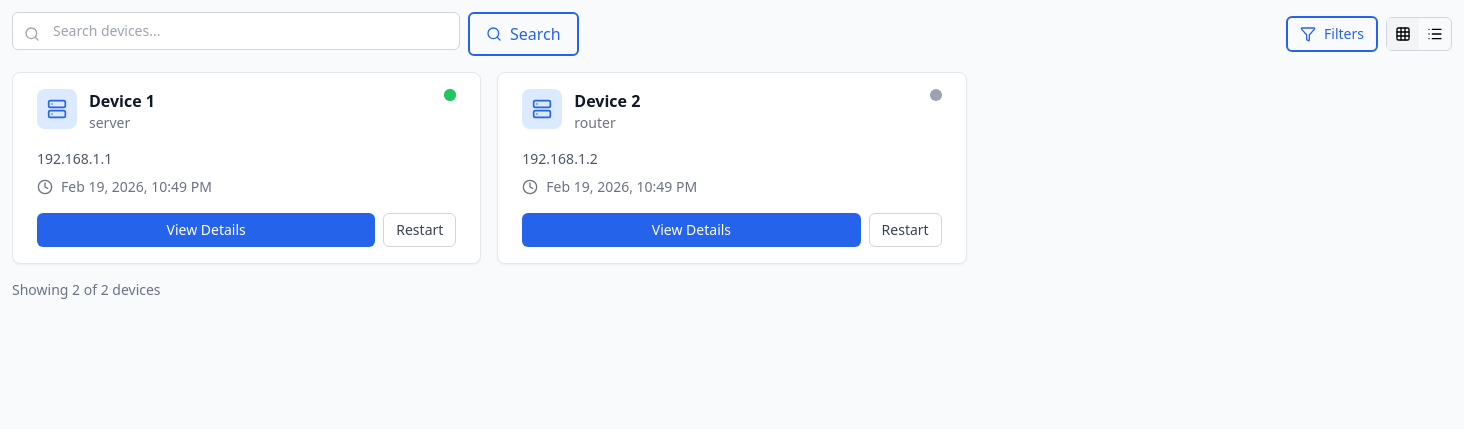
DeviceList › handles clear filters
Click the button "Filters" at (1332, 34), box [1286,16,1378,52]
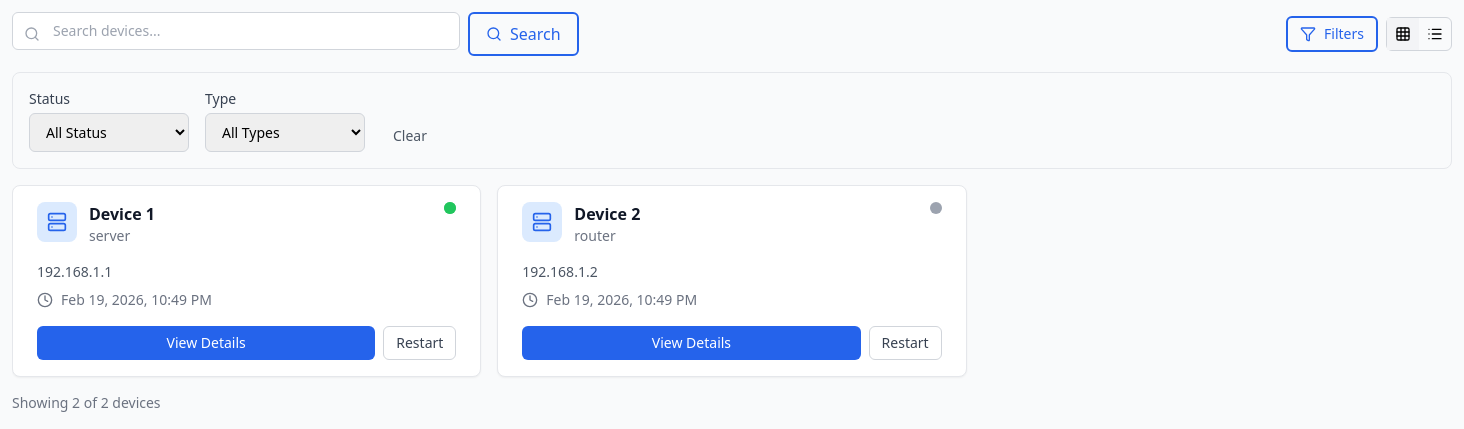
Select "Online" in the dropdown labelled "Status" at (109, 132), box [29,113,189,152]
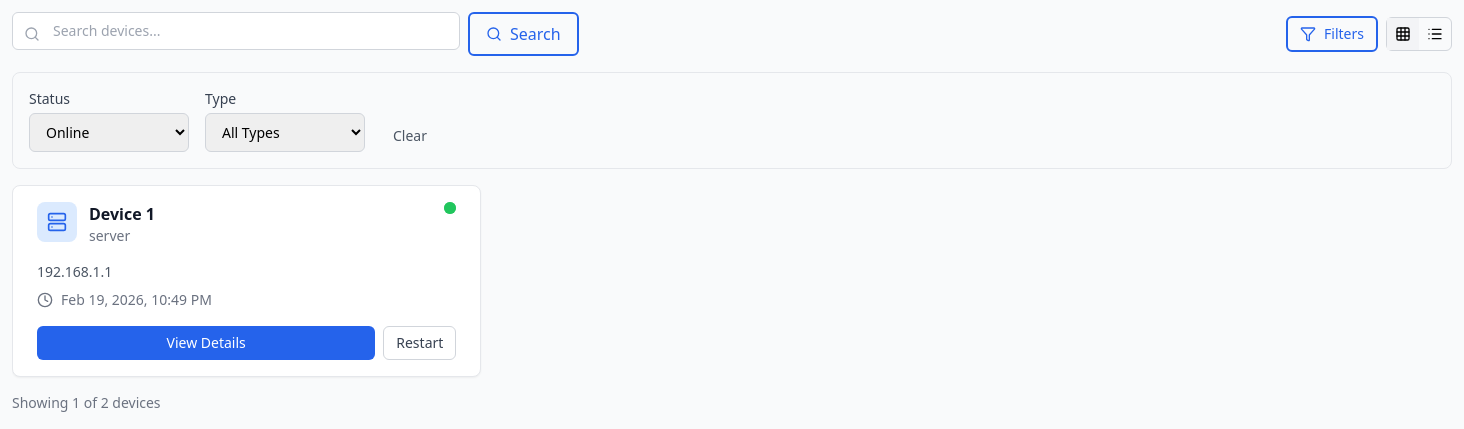
Click the button "Clear" at (410, 136), box [381,120,439,152]
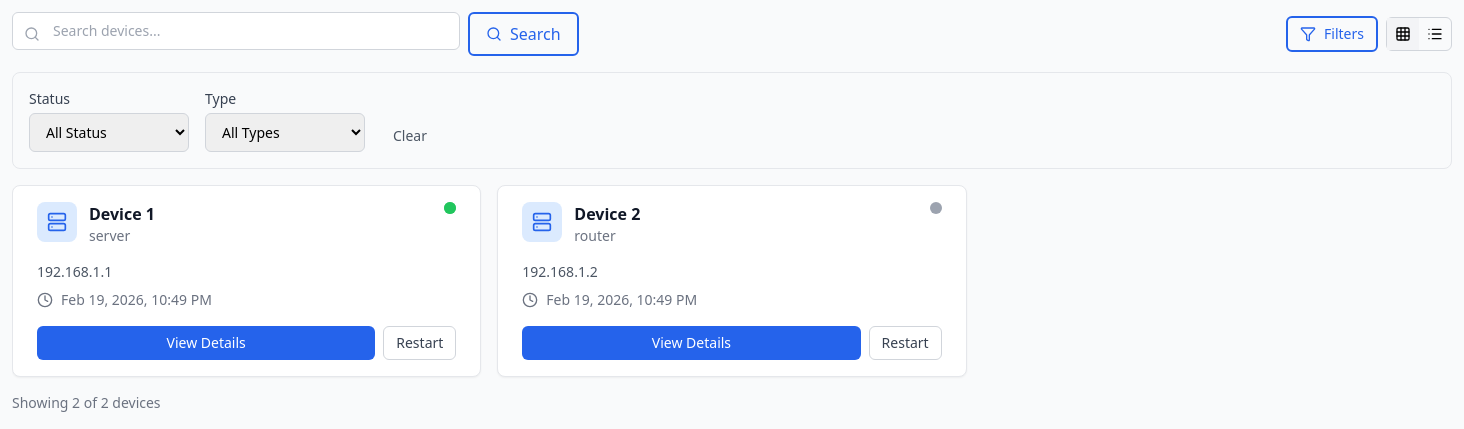
Expected: the text "Showing 2 of 2 devices" is shown, [12,393,161,412]
